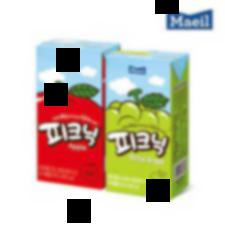hotsix_org: (34, 38, 108, 194)
